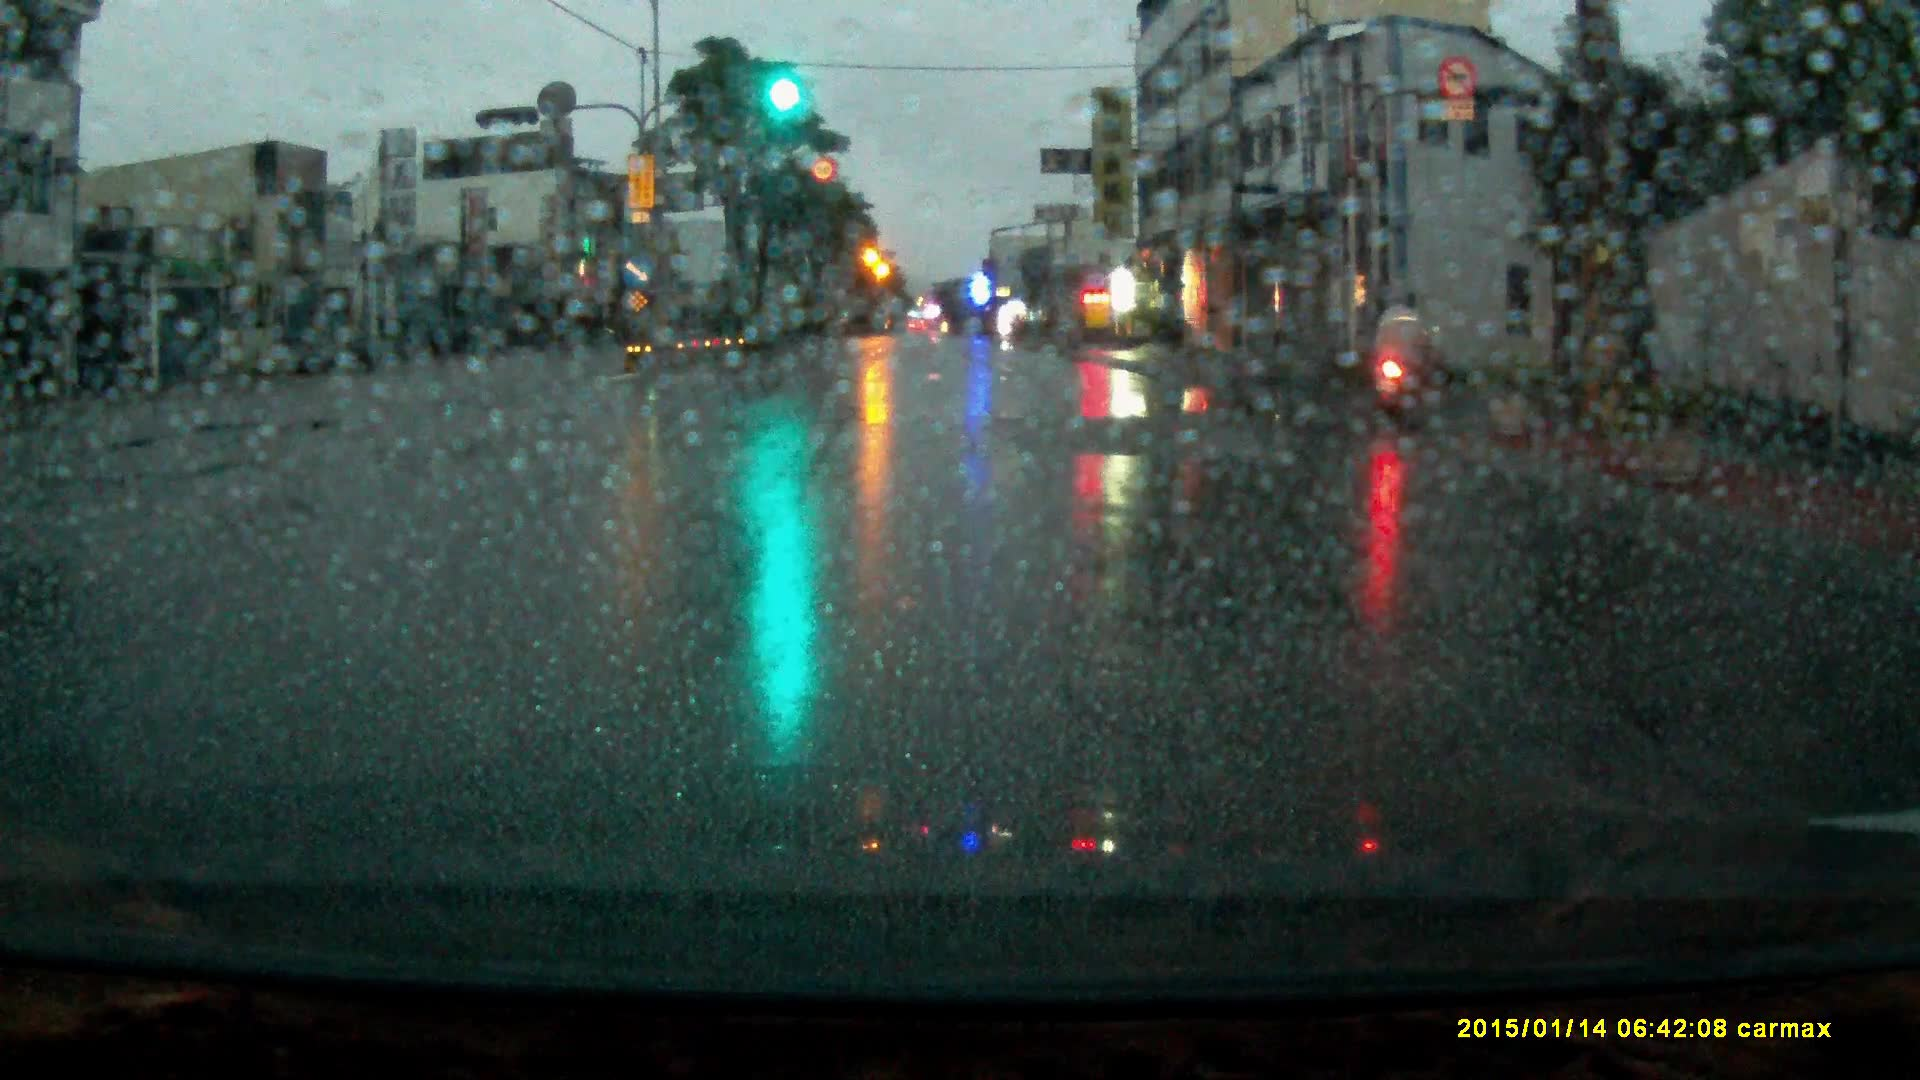rider: (1364, 288, 1446, 423)
